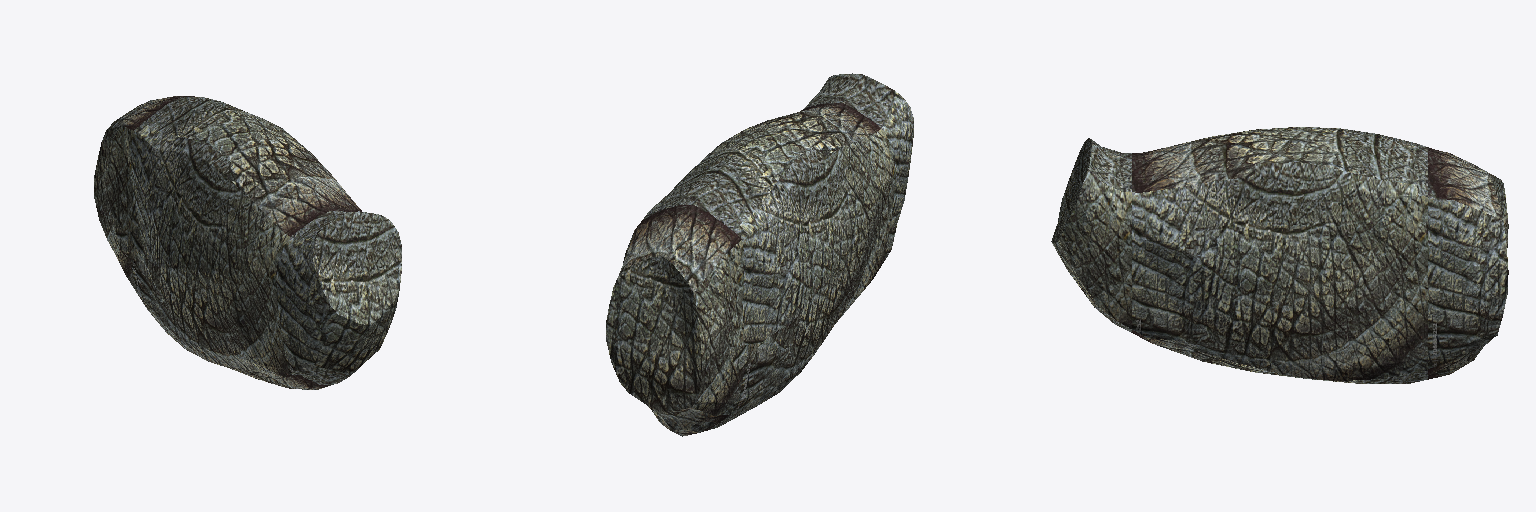
3 renders of one model, left to right at view 1: azimuth 30°, elevation 25°; view 2: azimuth 150°, elevation 25°; view 3: azimuth 270°, elevation 25°, orthographic.
Visible parts, largest first — view 1: Torso; view 2: Torso; view 3: Torso.
Boxes of the visible parts, x1=… form: Torso: x1=94, y1=96, x2=401, y2=389; Torso: x1=606, y1=73, x2=913, y2=436; Torso: x1=1051, y1=127, x2=1508, y2=383.
Size of the model in its own units: 1.29 by 2.34 by 3.84.
Materials: 1 (1 with a texture image).